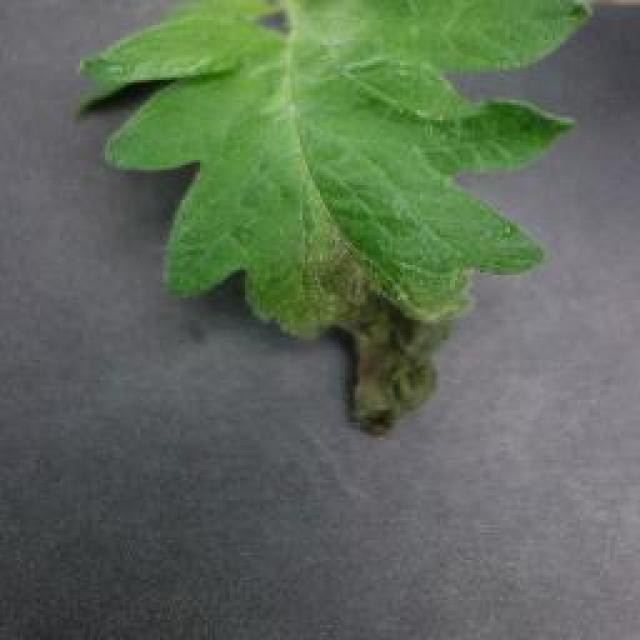Tomato___Late_blight: (77, 0, 592, 437)
